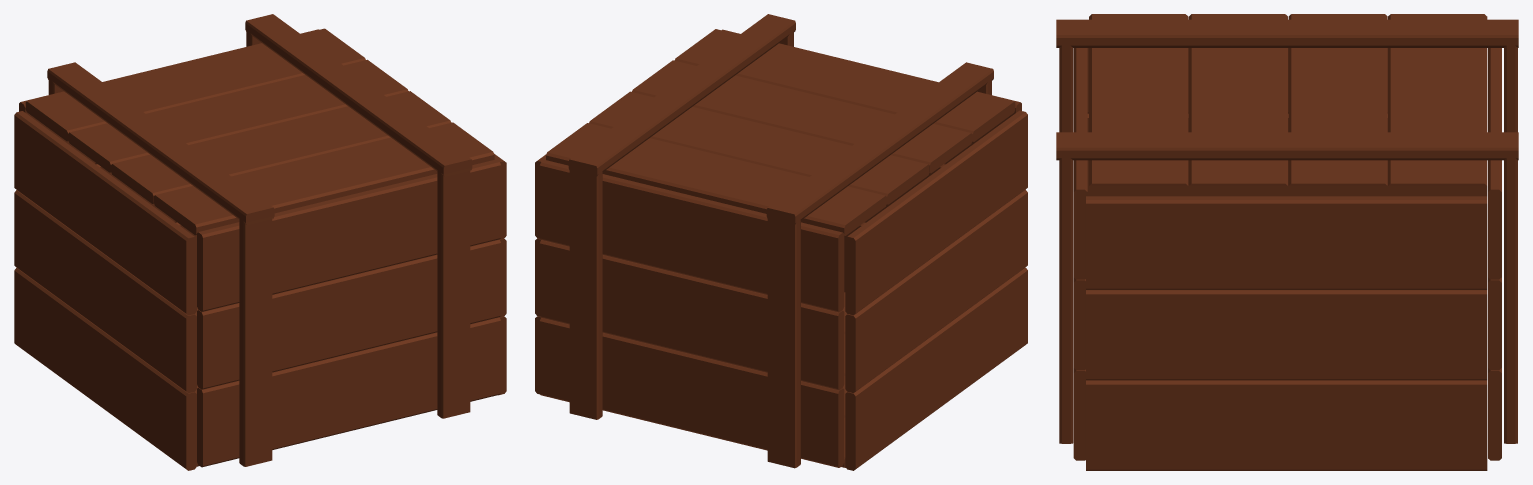
The picture shows the model from 3 angles, left to right: view 1: azimuth 30°, elevation 25°; view 2: azimuth 150°, elevation 25°; view 3: azimuth 270°, elevation 25°; orthographic projection. The views are drawn at different scales.
Visible parts, largest first — view 1: Box_plank.008; view 2: Box_plank.008; view 3: Box_plank.008.
Boxes of the visible parts, box(x1,y1,x2,y2) form: Box_plank.008: box(14, 14, 506, 470); Box_plank.008: box(535, 14, 1027, 470); Box_plank.008: box(1056, 14, 1518, 470).
Bounding box in the file's own units: 0.7896 × 0.6015 × 0.8476.
